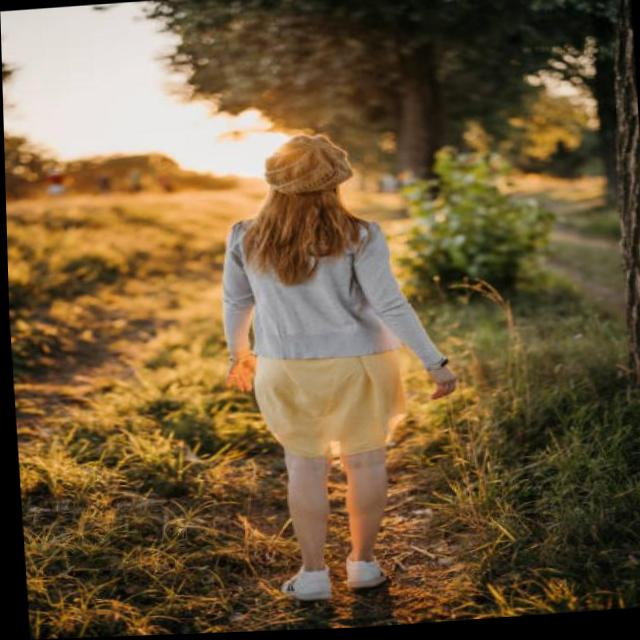no helmet: (237, 127, 363, 230)
